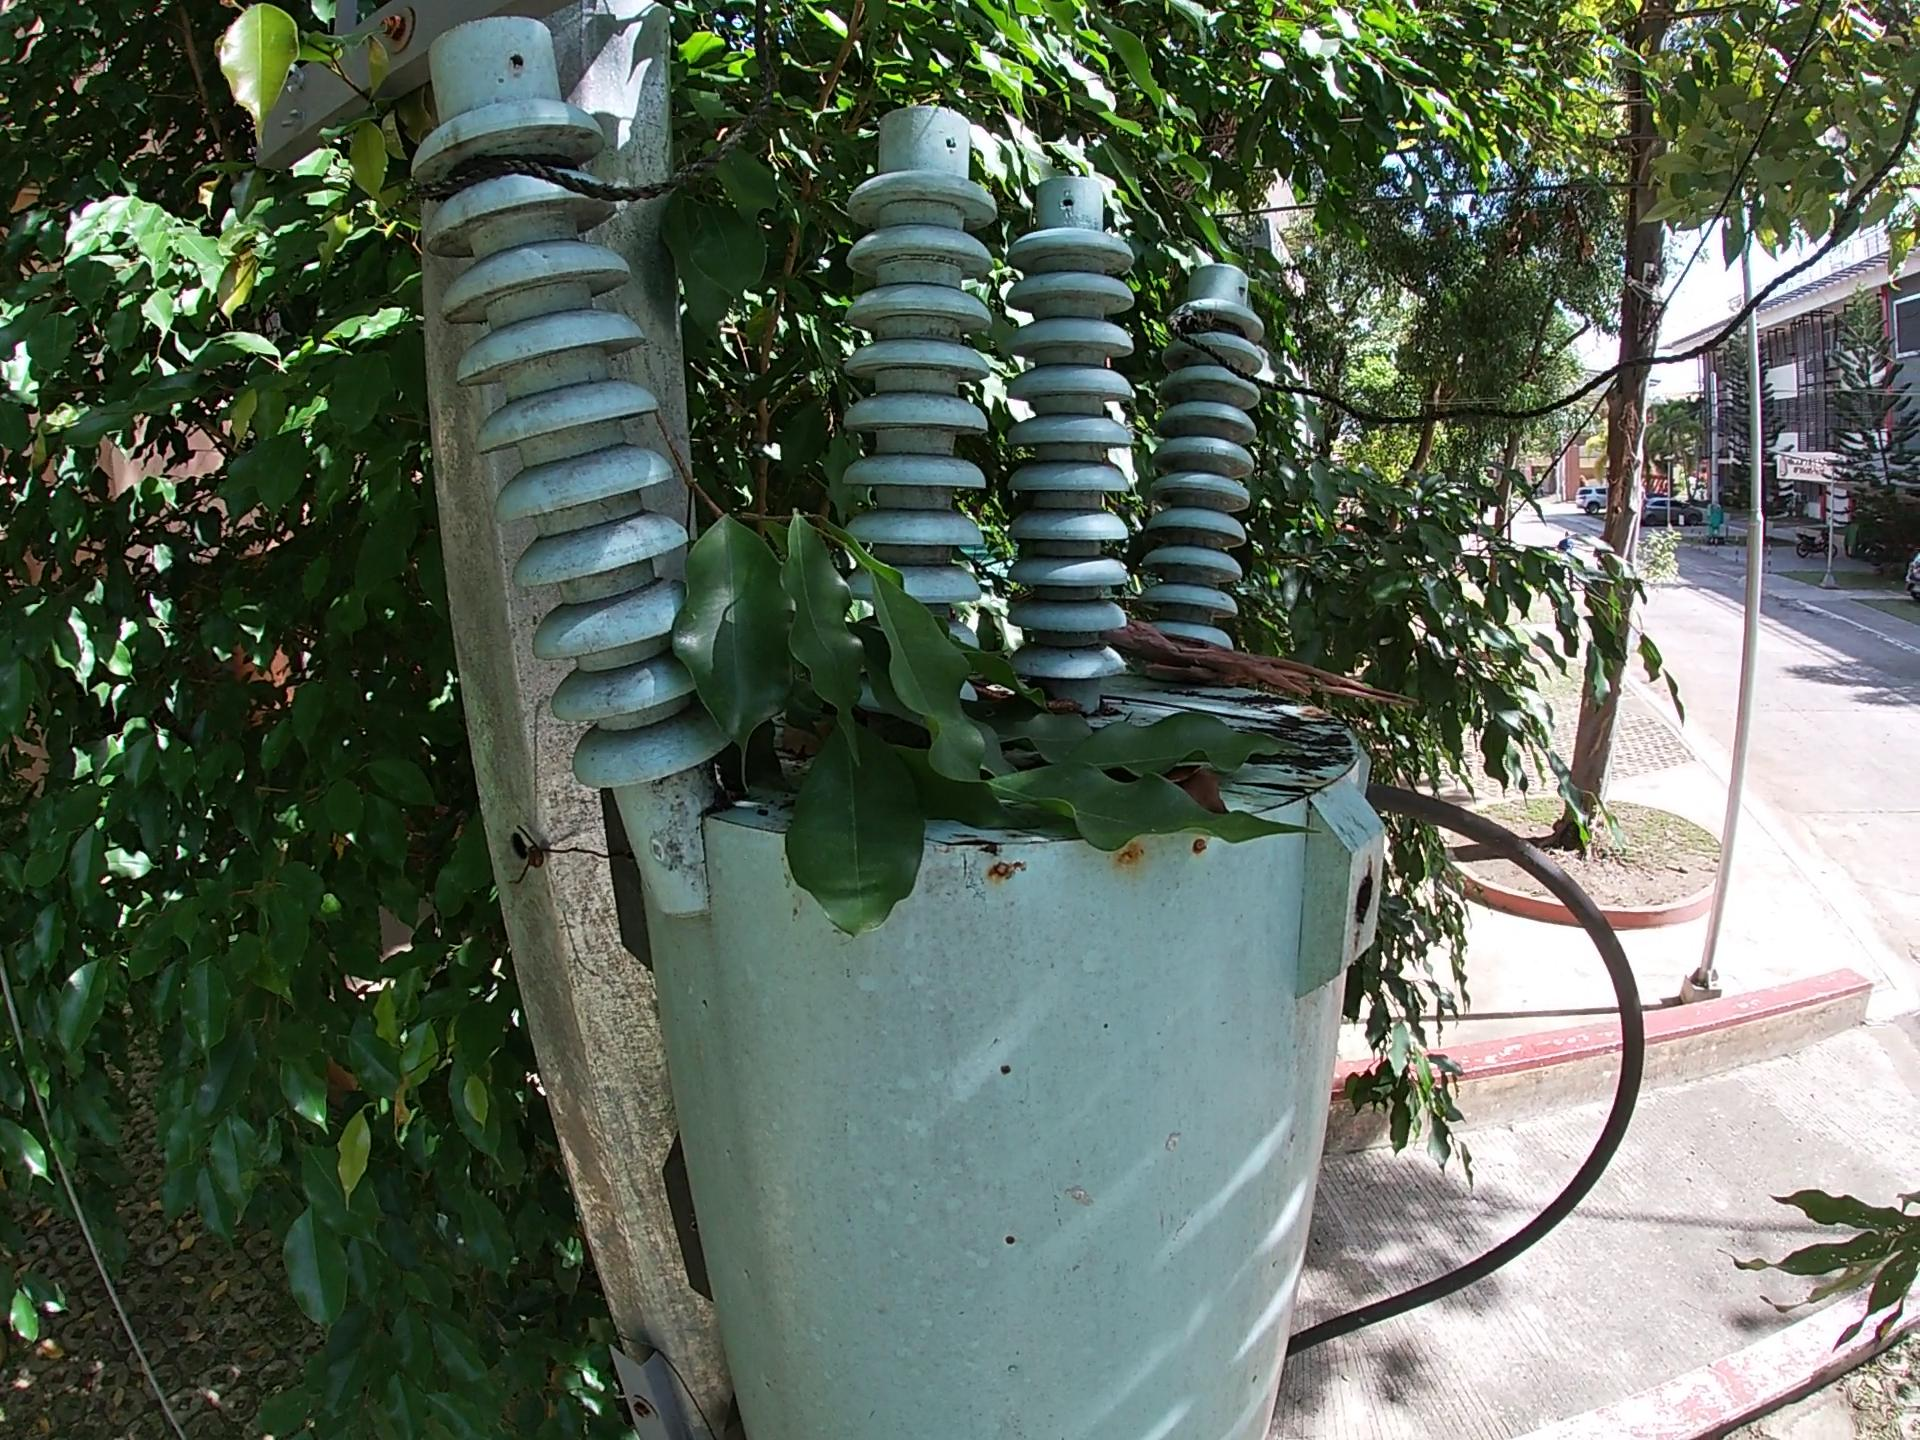branch with leaves: (587, 421, 1367, 945)
mahogany fruit: (1172, 762, 1229, 821), (980, 691, 1073, 714)
tree branch: (1113, 619, 1430, 718), (1101, 690, 1333, 737)
